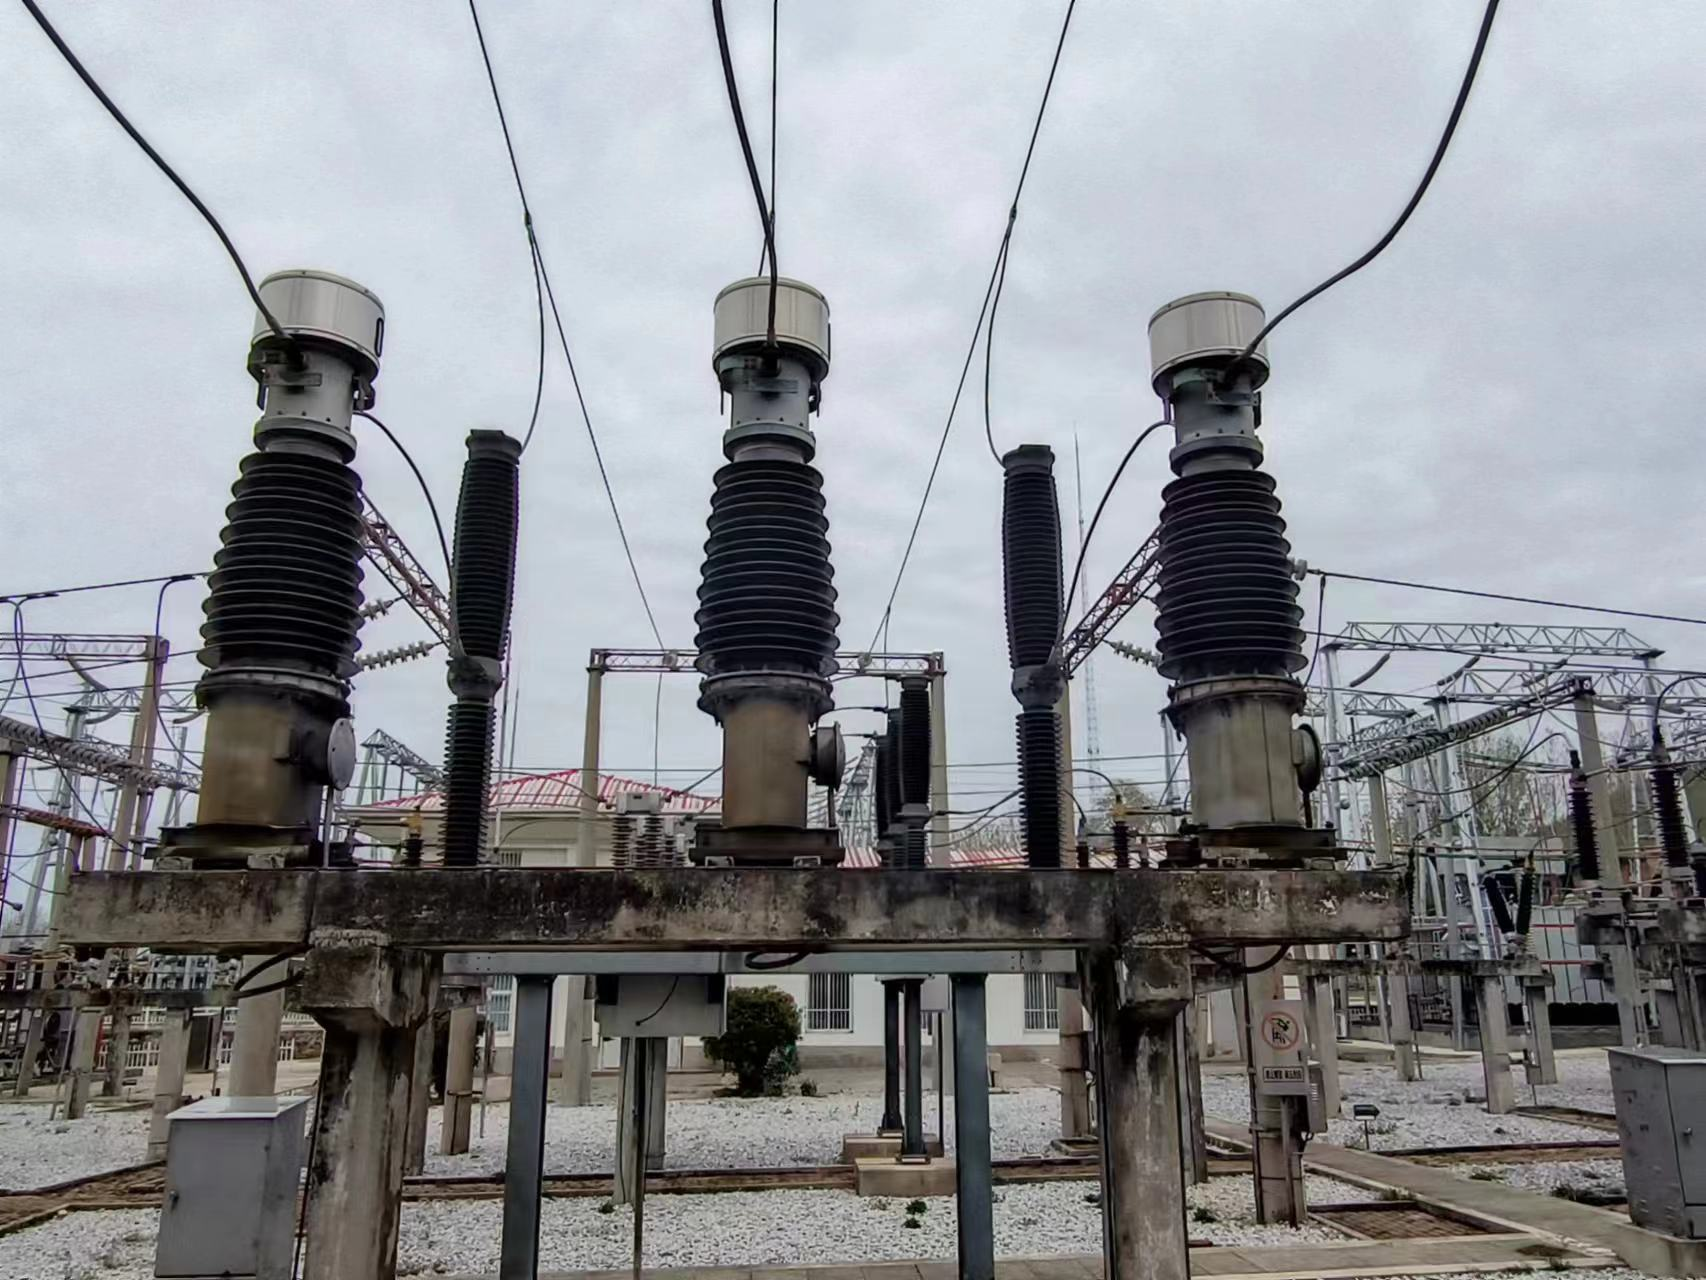Circuit-breaker: (433, 428, 526, 866), (995, 442, 1075, 871)
Current transformer: (188, 243, 389, 834), (1135, 290, 1334, 822), (684, 276, 864, 847)
